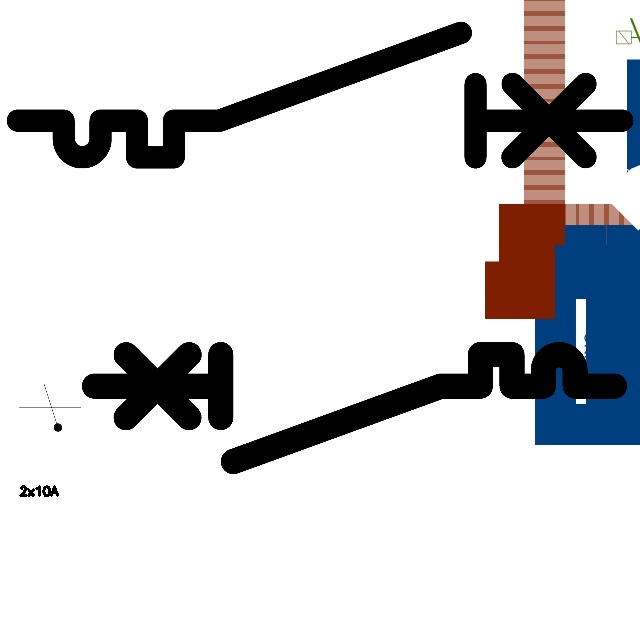interruptor_termomagnetico: (2, 17, 638, 173), (80, 341, 627, 475)
